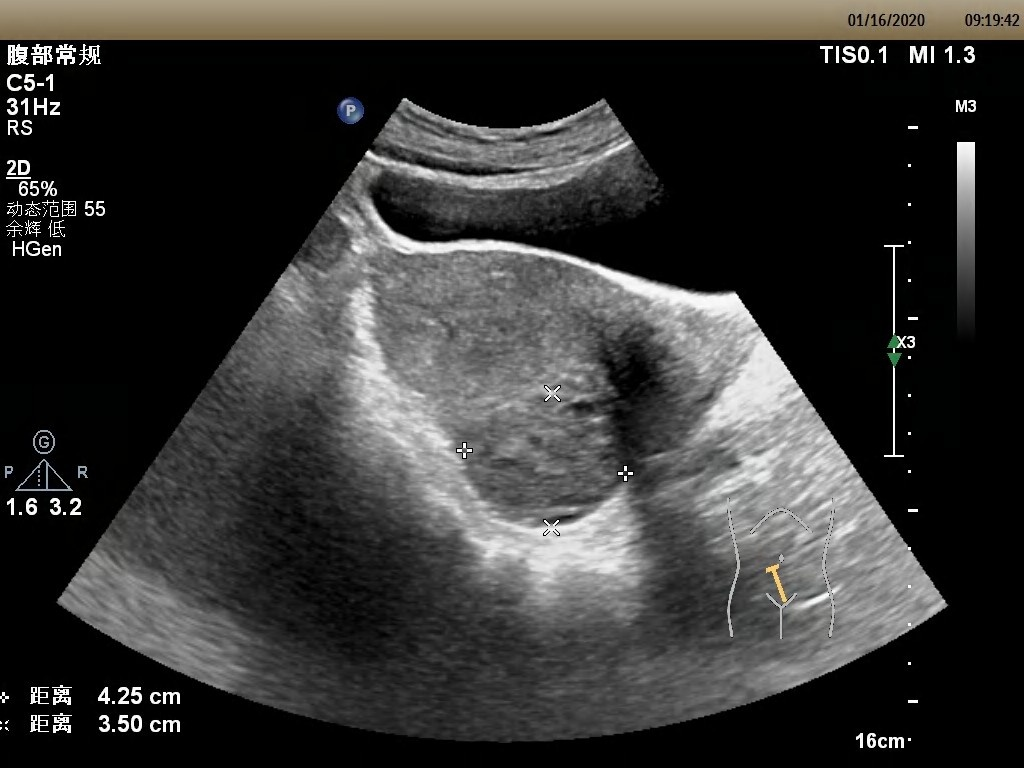肌瘤: (464, 396, 626, 528)
